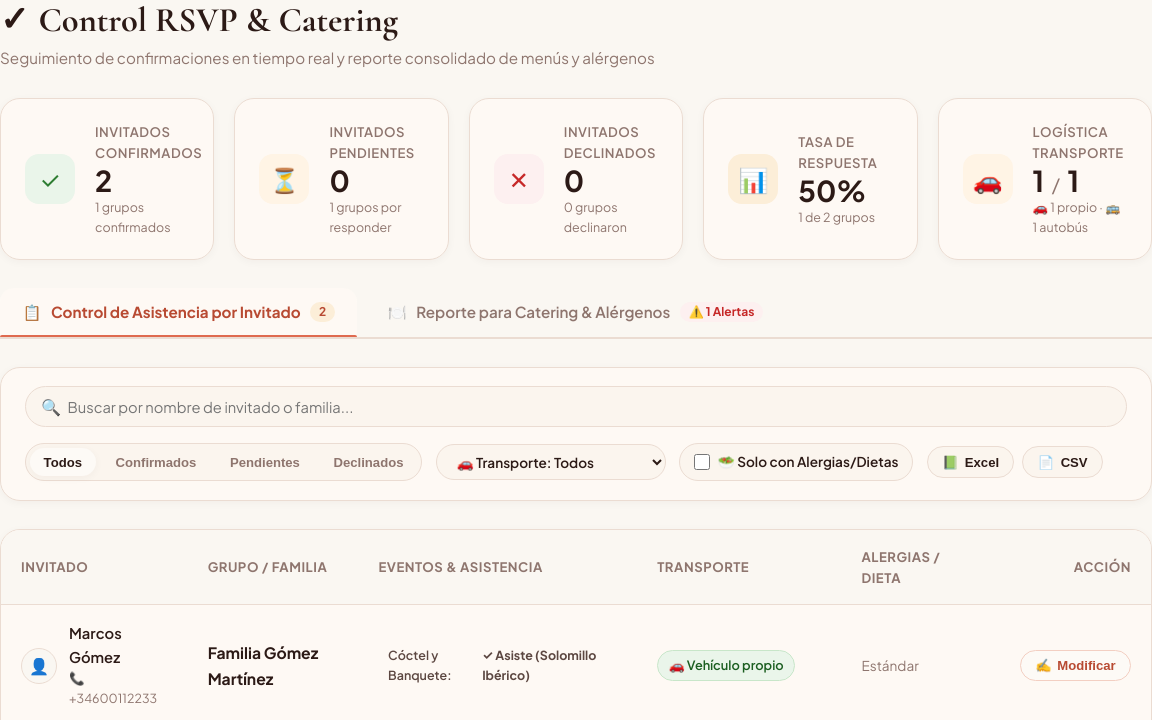
Scenario: AdminRsvpPage - Control RSVP & Exportación Catering › abre el modal de gestión manual enfocado en el invitado seleccionado
Expected: the text "Marcos Gómez" is shown, x1=69 y1=624 x2=122 y2=666
Click the button "✍️ Modificar" at [1076, 666], box x1=1020 y1=650 x2=1131 y2=681
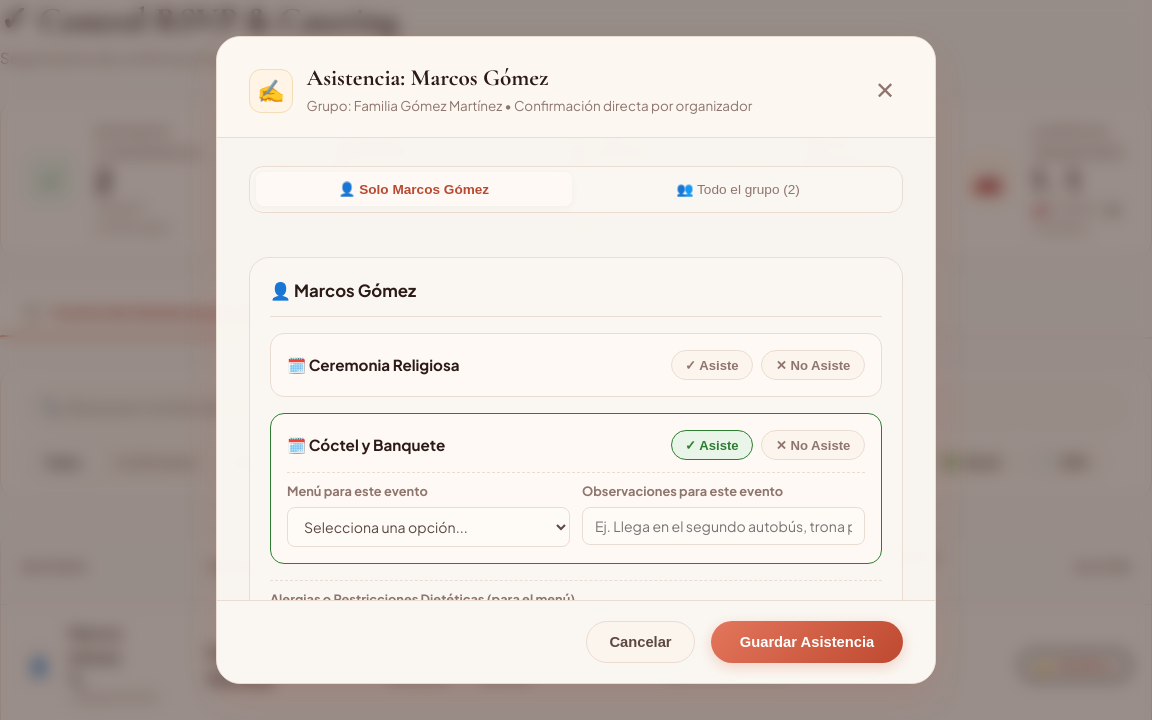
Expected: the heading "Asistencia: Marcos Gómez" is shown, x1=307 y1=64 x2=548 y2=92
